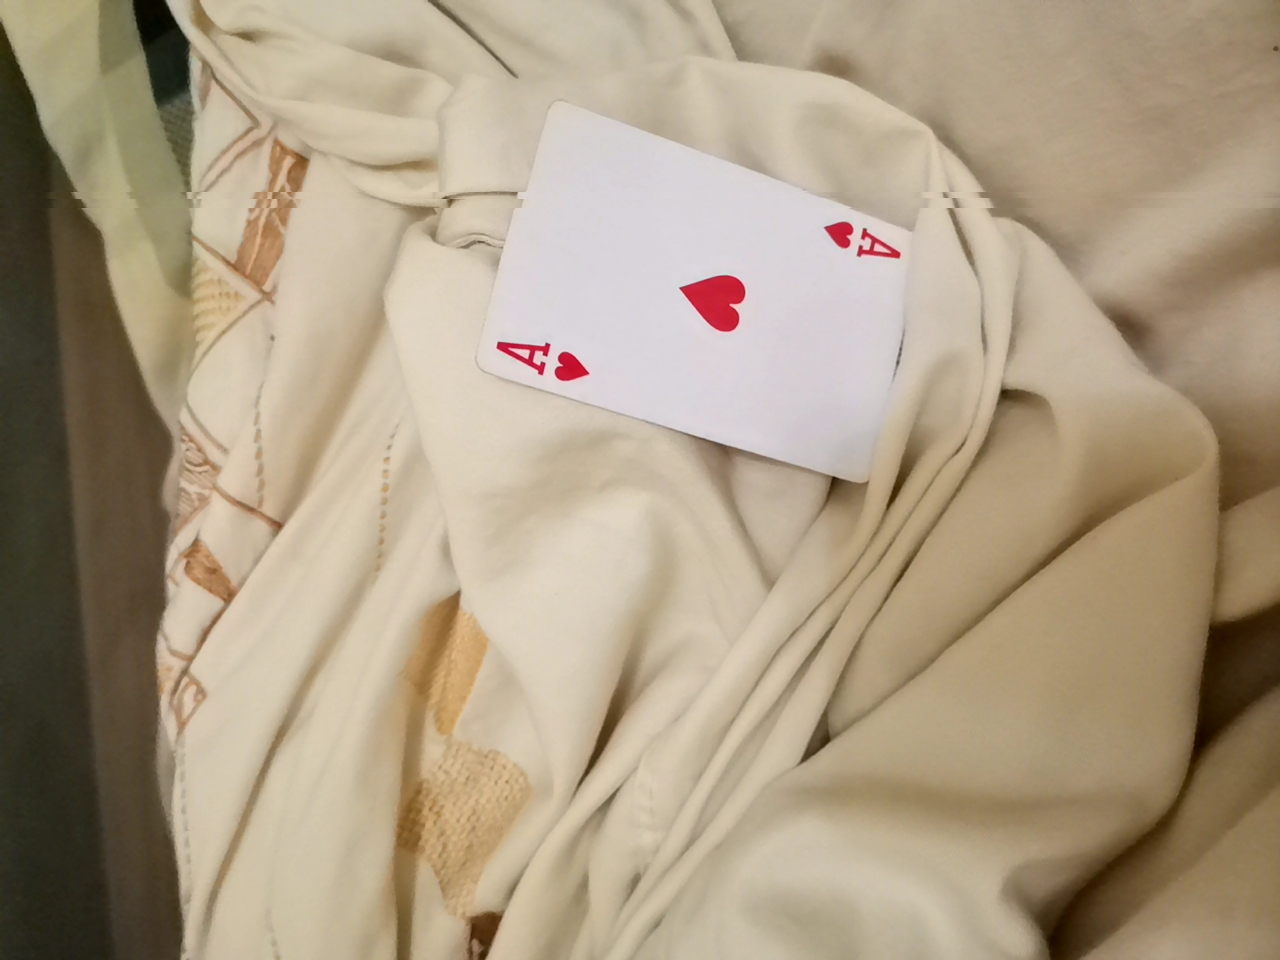hx a: (466, 106, 948, 479)
